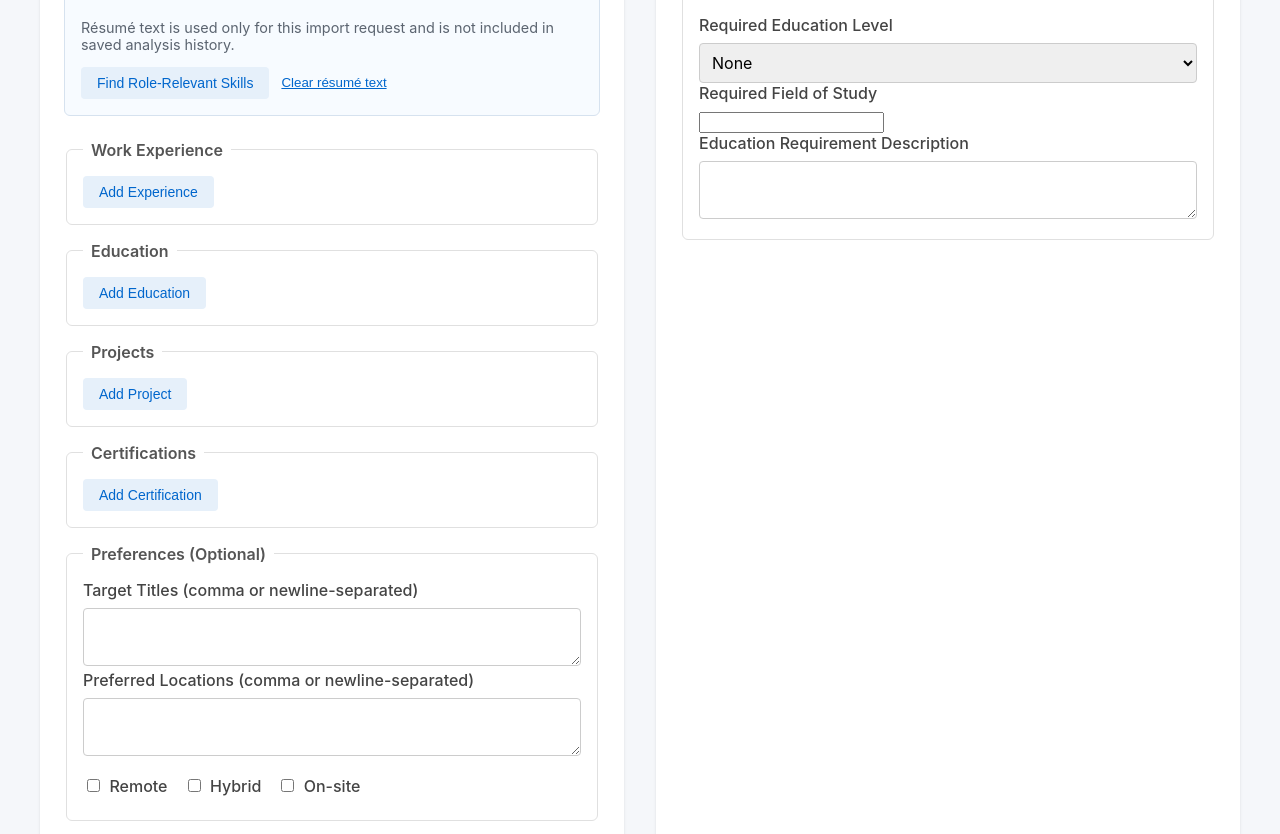
Test: AnalysisForm › adds and removes Project entries
The width and height of the screenshot is (1280, 834).
(page scrolled)
Click the button "Add Project" at [135, 394], box [83,378,187,410]
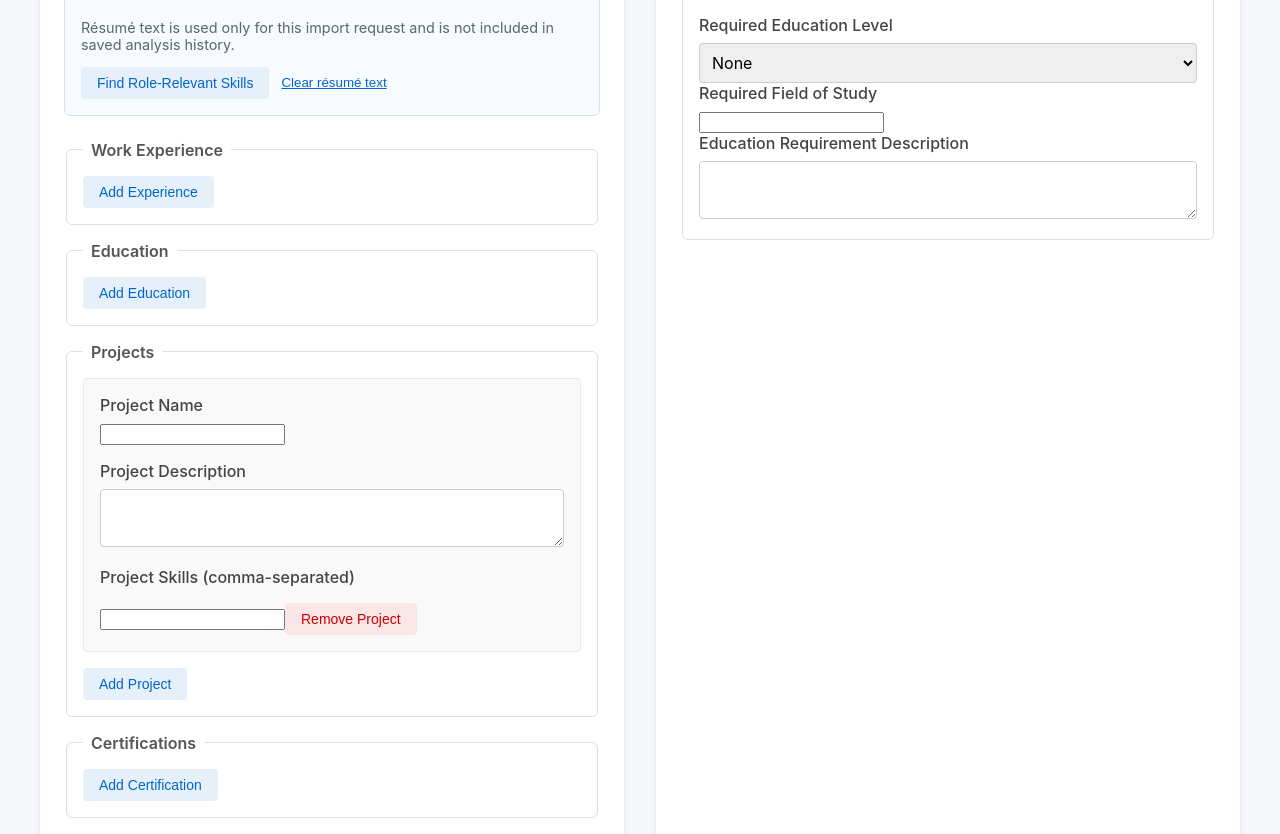
Result: the field labelled "Project Name" is shown at [100,424,285,445]
Click the button "Remove Project" at [351, 619], box [285,603,417,635]
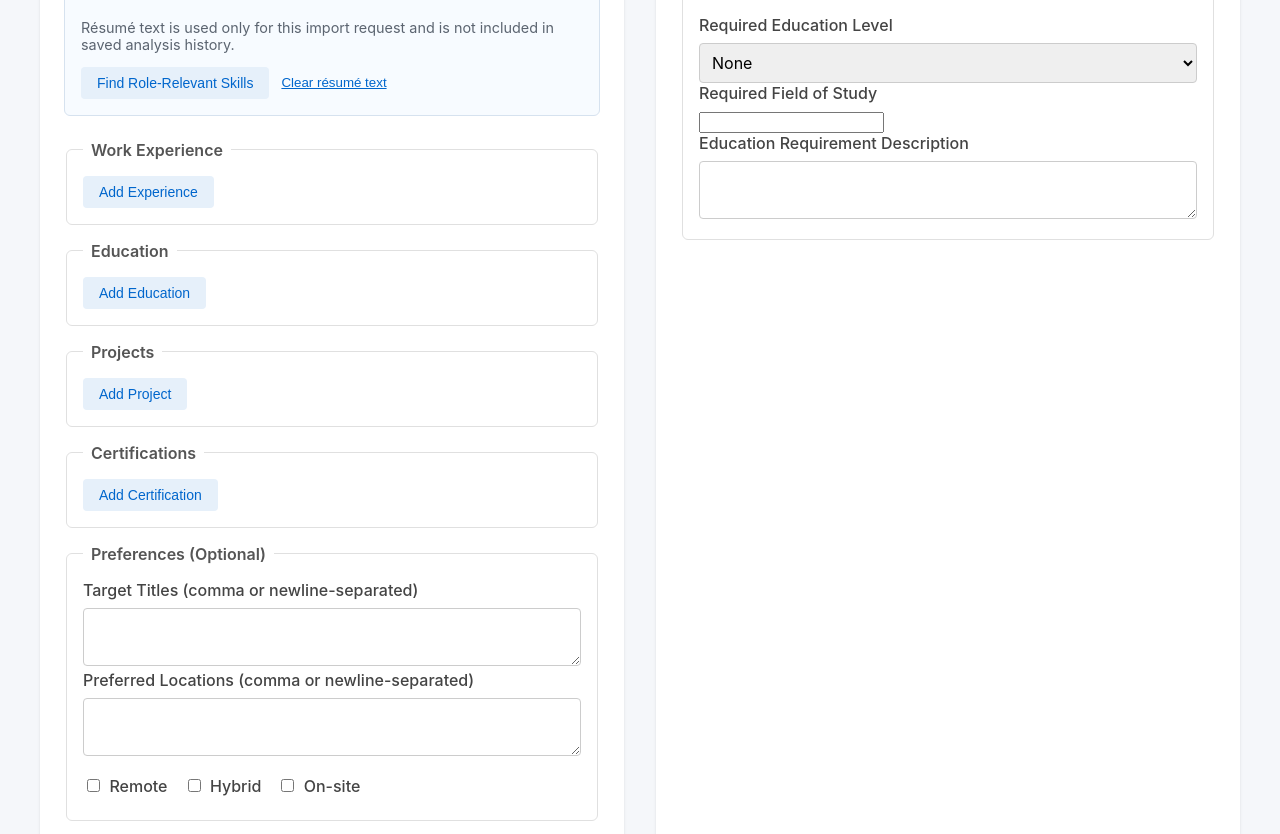
Result: the label labelled "Project Name" is gone
